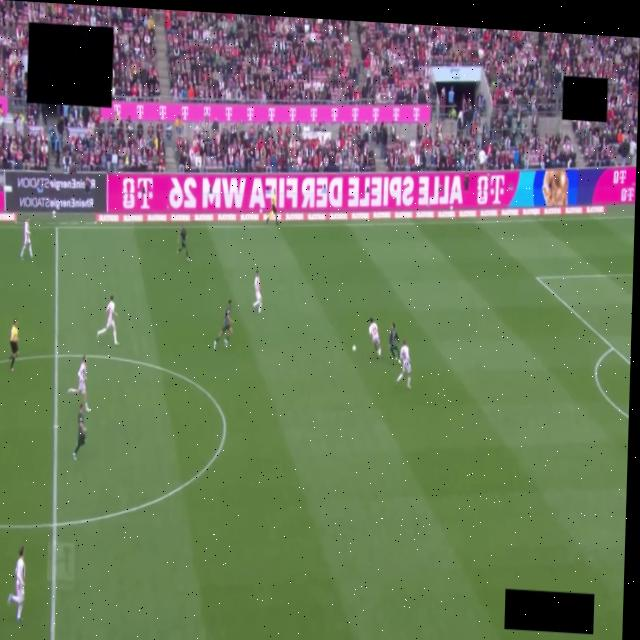ball: (352, 345, 355, 351)
player: (7, 546, 24, 621), (68, 356, 89, 412), (96, 296, 118, 345), (213, 301, 232, 348), (396, 340, 410, 388), (72, 404, 84, 460), (368, 317, 382, 356), (19, 218, 32, 258), (388, 323, 399, 363), (252, 271, 262, 313), (177, 227, 189, 261)
referee: (10, 319, 18, 370)
